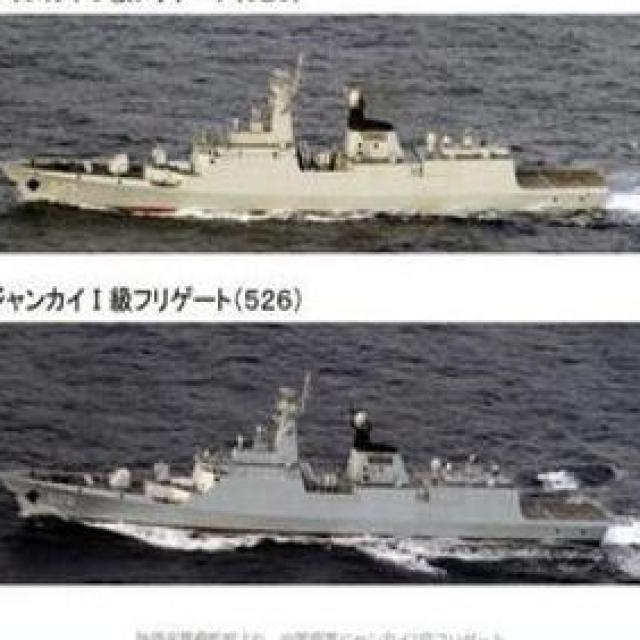navalvessels: (22, 49, 640, 247), (0, 379, 640, 558)
